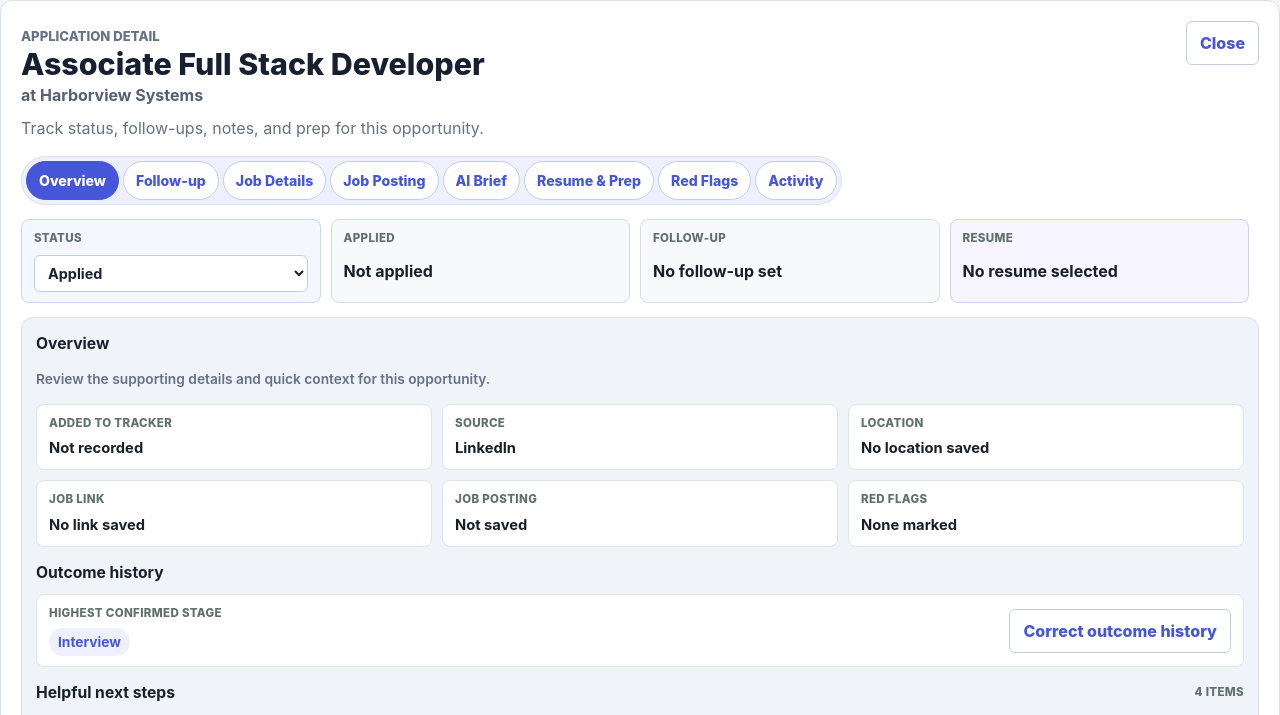
ApplicationDetailPanel outcome-history correction › closes from Cancel without submitting
Click the button "Correct outcome history" at (1120, 631), box [1009, 609, 1231, 653]
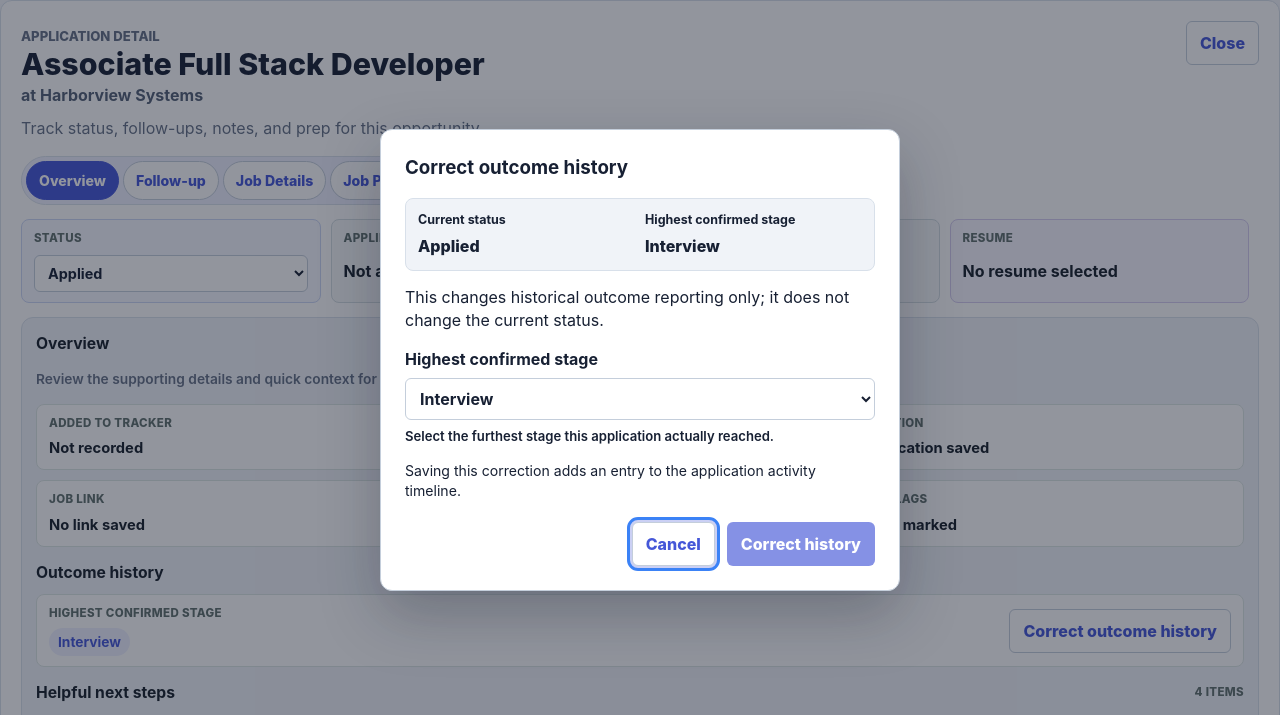
Click the button "Cancel" at (673, 544), box [632, 522, 715, 566]
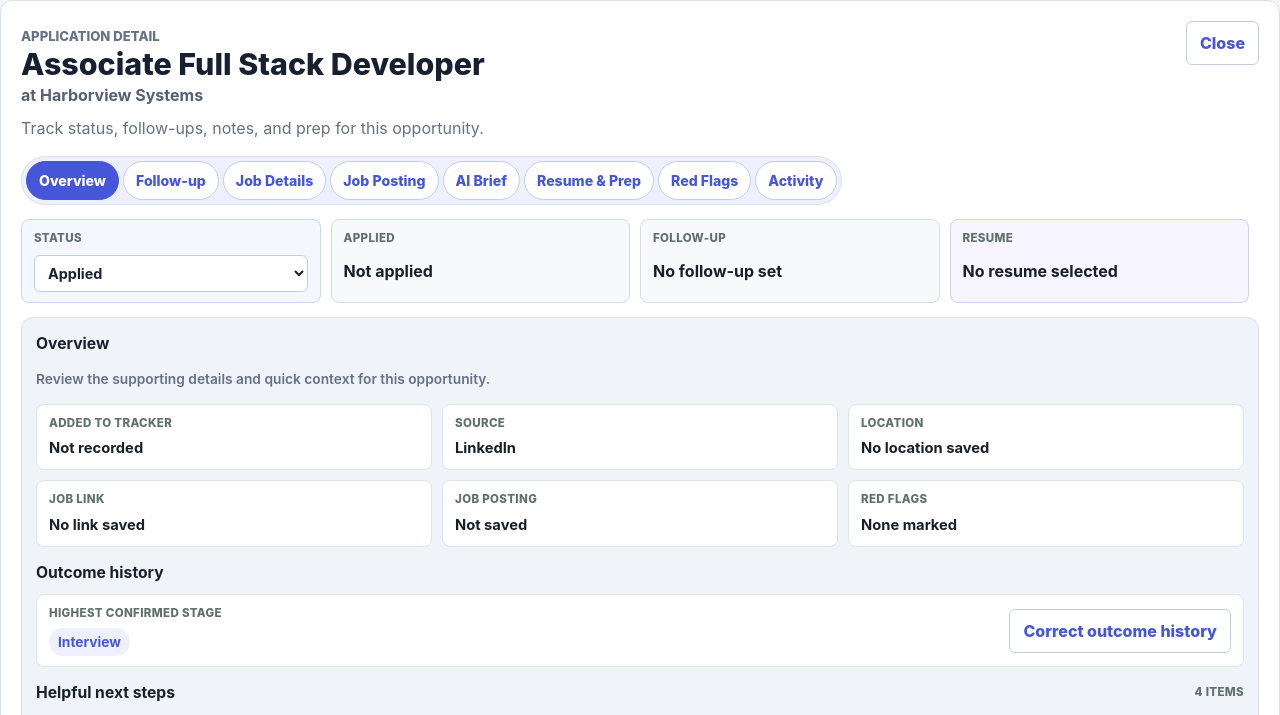
Result: the dialog is gone
